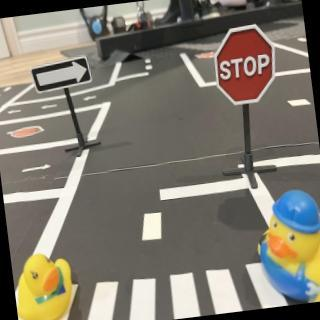duck_regular: (12, 249, 80, 320)
duck_specialty: (249, 184, 320, 309)
road_crosswalk: (28, 254, 295, 320)
road_oneway: (17, 161, 56, 178), (38, 102, 63, 112), (81, 94, 103, 104), (6, 108, 23, 118)
sign_oneway_right: (30, 54, 96, 95)
sign_stop: (210, 25, 281, 111)
